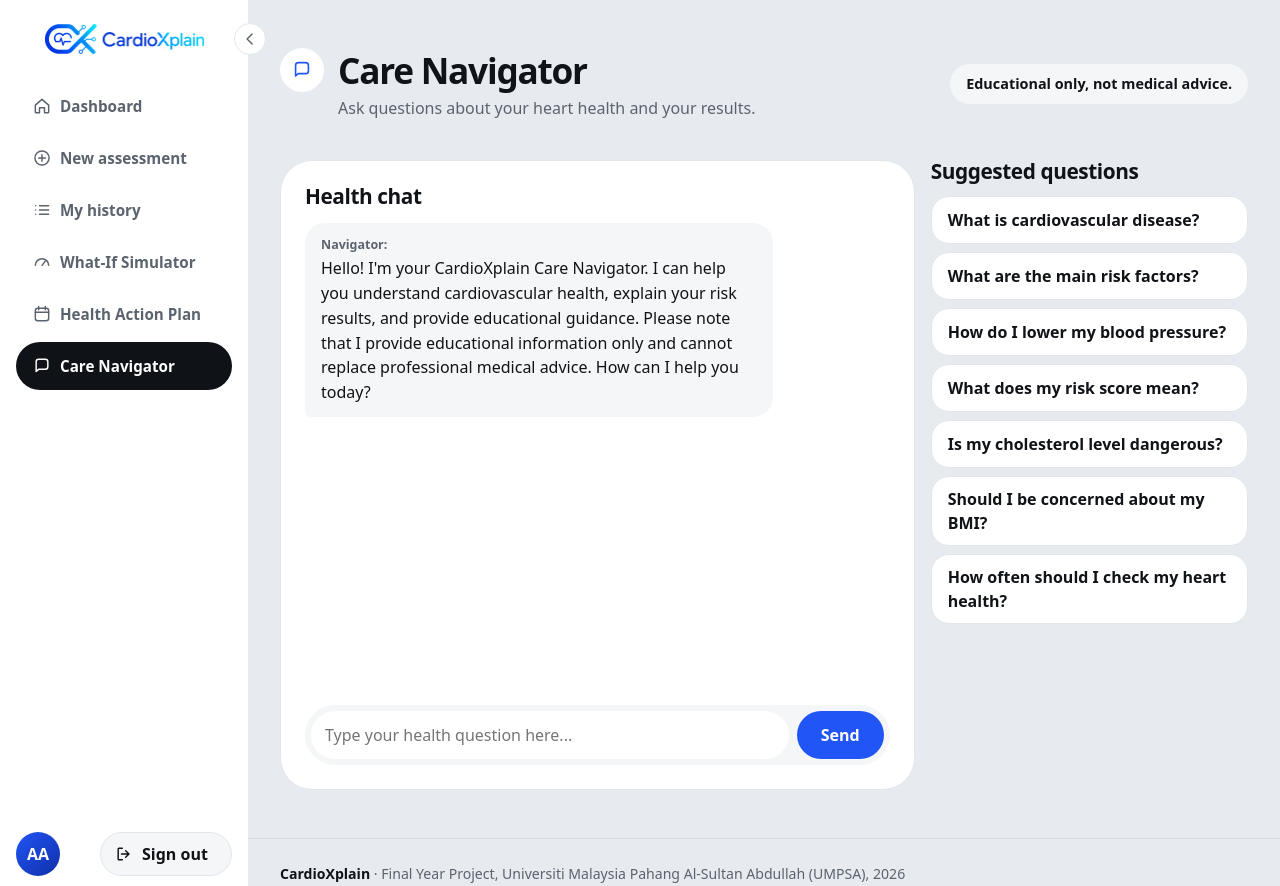
it: clicking the logo goes to the user's home page
Step 1. Click the link named "CardioXplain home" → (124, 39), box [44, 24, 204, 54]
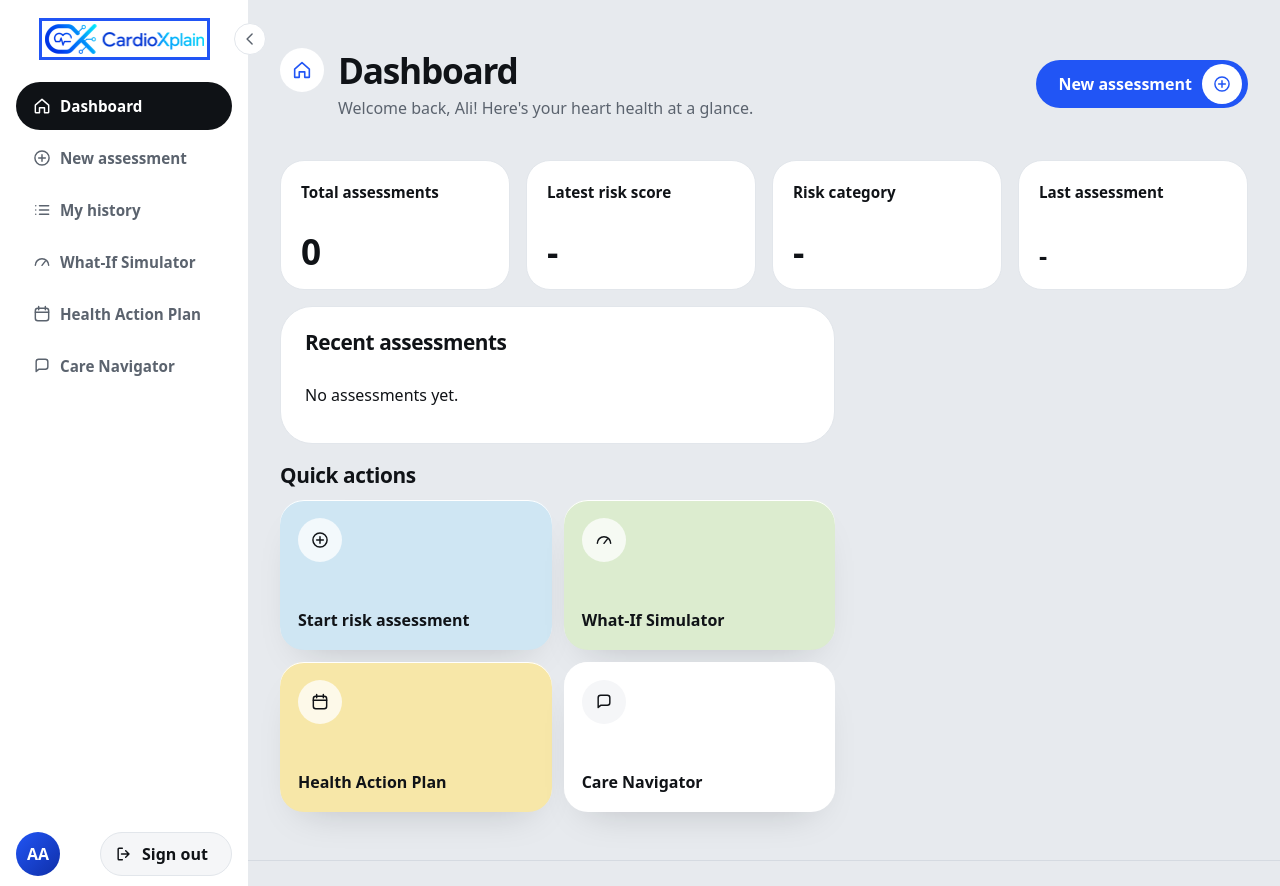
Result: the heading "Dashboard" is shown at [338, 46, 518, 94]
